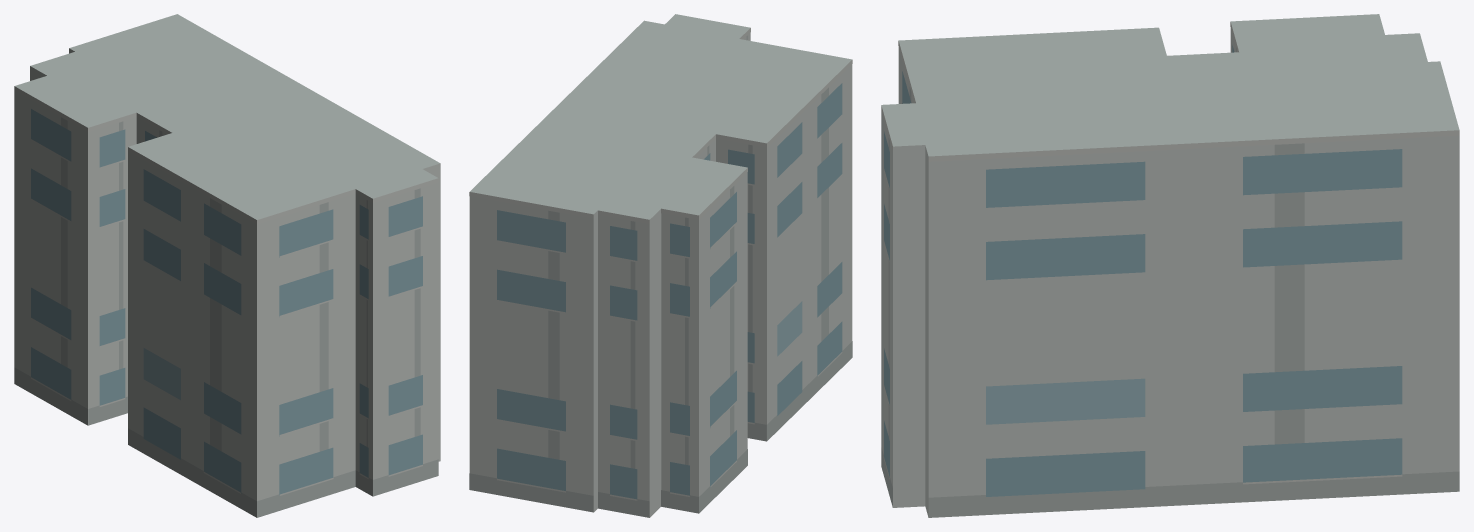
Rendered from survey-upis-32786759.glb.
The picture shows the model from 3 angles, left to right: view 1: azimuth 30°, elevation 25°; view 2: azimuth 150°, elevation 25°; view 3: azimuth 270°, elevation 25°; orthographic projection. The views are drawn at different scales.
Visible parts, largest first — view 1: survey-upis-32786759.tmp; view 2: survey-upis-32786759.tmp; view 3: survey-upis-32786759.tmp.
Boxes of the visible parts, x1,y1,x2,y2 form: survey-upis-32786759.tmp: (14, 14, 440, 517); survey-upis-32786759.tmp: (469, 14, 852, 517); survey-upis-32786759.tmp: (881, 14, 1459, 517).
Size of the model in its own units: 13.53 by 16 by 23.21.
